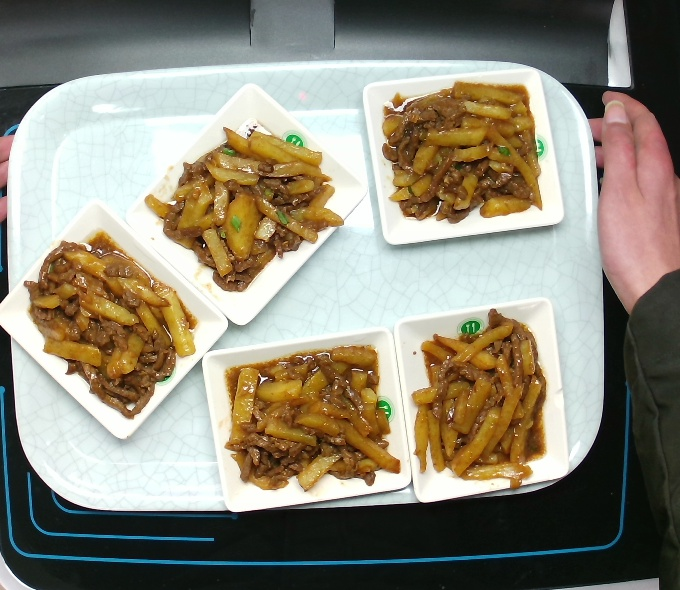wcq-TuDouNiuRou: (137, 110, 338, 298), (15, 226, 201, 422), (407, 304, 560, 496), (218, 345, 404, 496), (375, 75, 543, 231)
